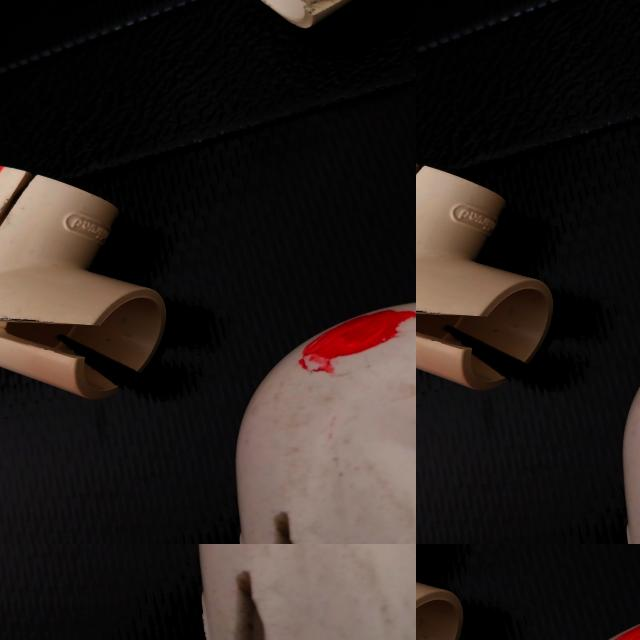L Joint: (527, 591, 640, 640)
T Joint: (416, 544, 466, 640)
